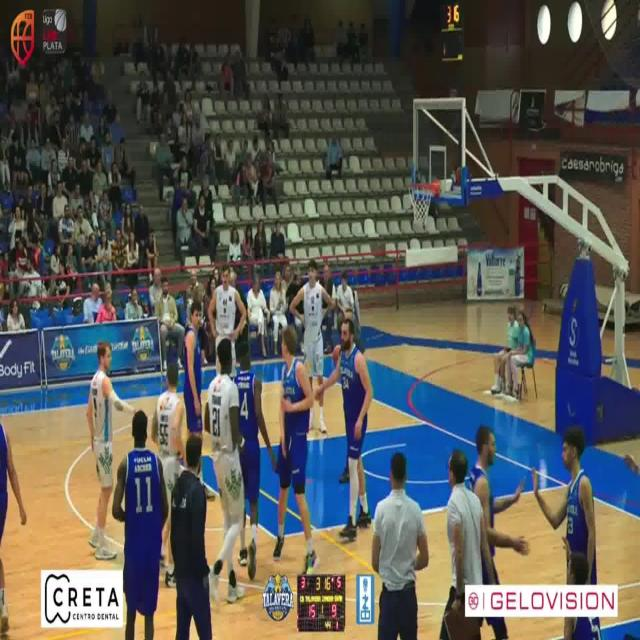ball: (332, 343, 341, 366)
basket: (411, 181, 440, 232)
bench person: (372, 453, 429, 640), (533, 425, 598, 584), (441, 449, 494, 640), (170, 434, 212, 640), (470, 424, 530, 556)
player: (315, 312, 373, 541), (112, 410, 168, 640), (273, 326, 317, 573), (204, 338, 244, 603), (234, 338, 277, 580), (86, 341, 133, 560), (289, 258, 335, 386), (151, 362, 184, 498), (208, 266, 246, 373), (0, 423, 26, 544), (183, 300, 202, 436), (0, 558, 8, 637), (239, 514, 248, 566)
referee: (341, 301, 365, 352)
